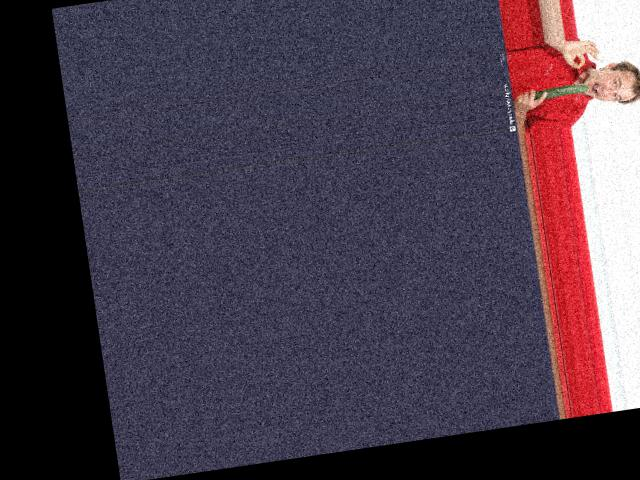cucumber: (533, 83, 589, 99)
